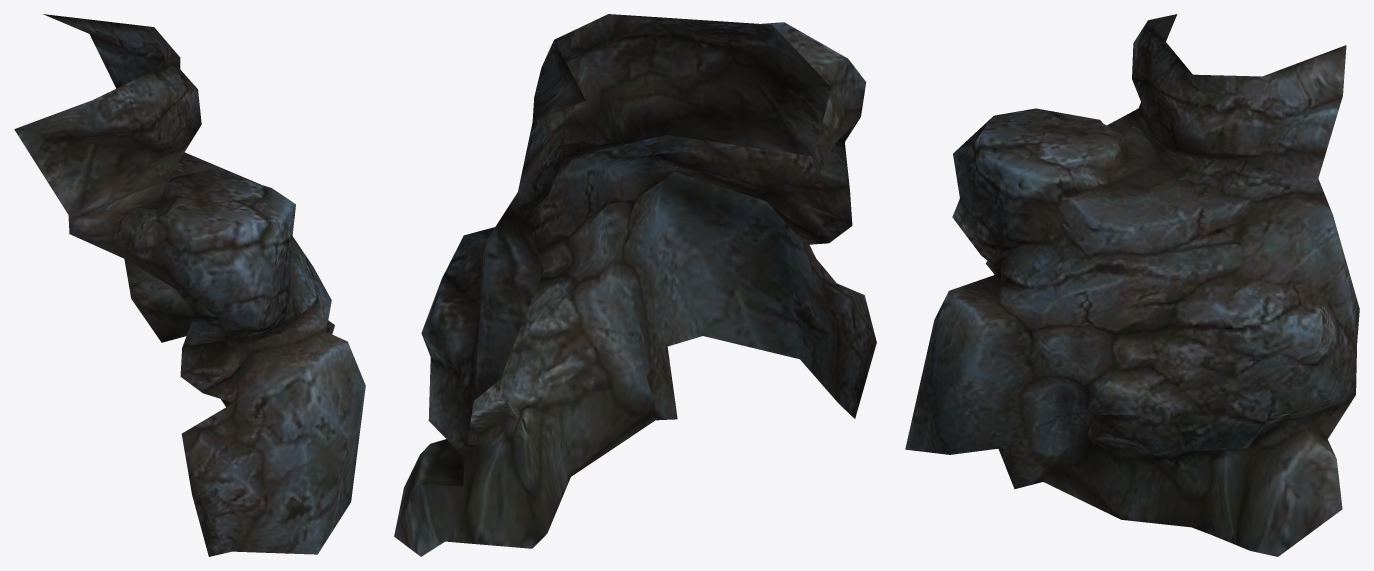
Rendered from S_Rock_Yellow034_26.FBX.
The picture shows the model from 3 angles, left to right: view 1: azimuth 30°, elevation 25°; view 2: azimuth 150°, elevation 25°; view 3: azimuth 270°, elevation 25°; orthographic projection. The views are drawn at different scales.
Visible parts, largest first — view 1: S_Rock_Yellow034_26; view 2: S_Rock_Yellow034_26; view 3: S_Rock_Yellow034_26.
Boxes of the visible parts, x1,y1,x2,y2 form: S_Rock_Yellow034_26: [14, 14, 365, 556]; S_Rock_Yellow034_26: [394, 14, 876, 556]; S_Rock_Yellow034_26: [905, 14, 1359, 556].
Bounding box in the file's own units: 156 × 217 × 231.
